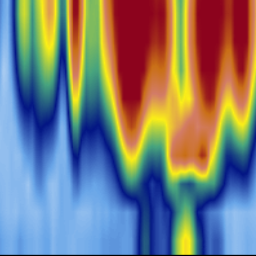defect: (93, 1, 168, 202), (180, 1, 256, 124), (33, 1, 62, 172), (65, 1, 88, 184), (171, 124, 218, 188), (11, 1, 32, 132), (170, 198, 201, 256)
